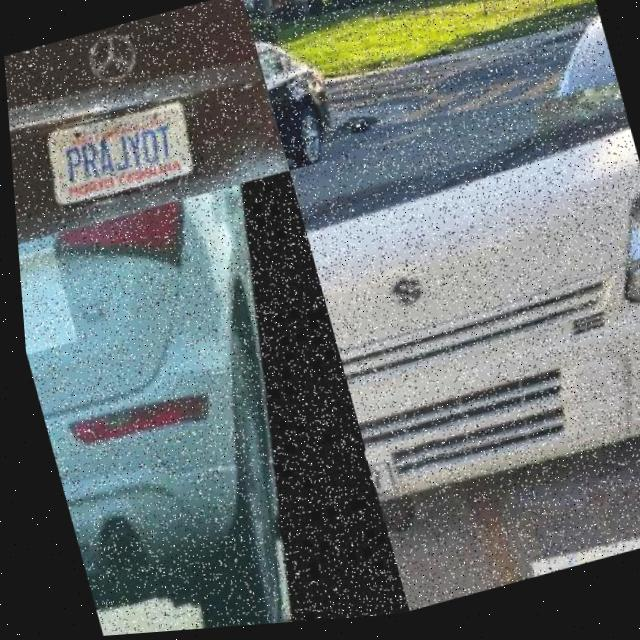LicensePlate: (45, 108, 193, 210), (356, 436, 452, 529), (15, 246, 74, 354)
